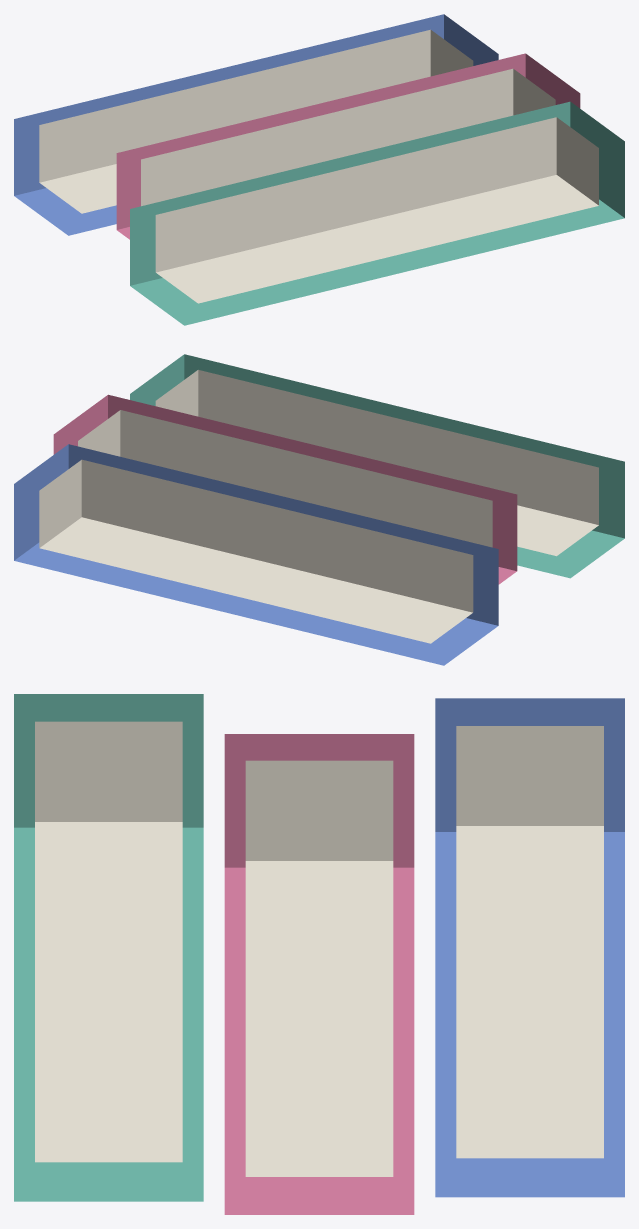
Rendered from home_stats_books.glb.
3 views of the same model, one above another, from view 1: azimuth 30°, elevation 25°; view 2: azimuth 150°, elevation 25°; view 3: azimuth 270°, elevation 25° (orthographic). The views are drawn at different scales.
Parts seen in each view (by area): view 1: Book pages 2, Book pages 0, Book cover 2, Book pages 1, Book cover 0, Book cover 1; view 2: Book pages 0, Book pages 2, Book cover 0, Book pages 1, Book cover 2, Book cover 1; view 3: Book pages 2, Book pages 0, Book pages 1, Book cover 2, Book cover 0, Book cover 1.
Boxes of the visible parts, x1,y1,x2,y2 form: Book pages 2: [155, 117, 598, 303]; Book pages 0: [39, 29, 473, 213]; Book cover 2: [130, 101, 624, 325]; Book pages 1: [141, 68, 555, 206]; Book cover 0: [14, 14, 498, 235]; Book cover 1: [116, 53, 580, 239]; Book pages 0: [39, 459, 473, 643]; Book pages 2: [155, 370, 598, 556]; Book cover 0: [14, 444, 498, 665]; Book pages 1: [78, 410, 492, 547]; Book cover 2: [130, 354, 624, 578]; Book cover 1: [53, 394, 517, 584]; Book pages 2: [35, 721, 182, 1162]; Book pages 0: [456, 726, 603, 1158]; Book pages 1: [245, 760, 393, 1176]; Book cover 2: [14, 694, 203, 1201]; Book cover 0: [435, 698, 624, 1197]; Book cover 1: [224, 734, 414, 1214].
Size of the model in its own units: 0.87 by 0.14 by 0.58.
